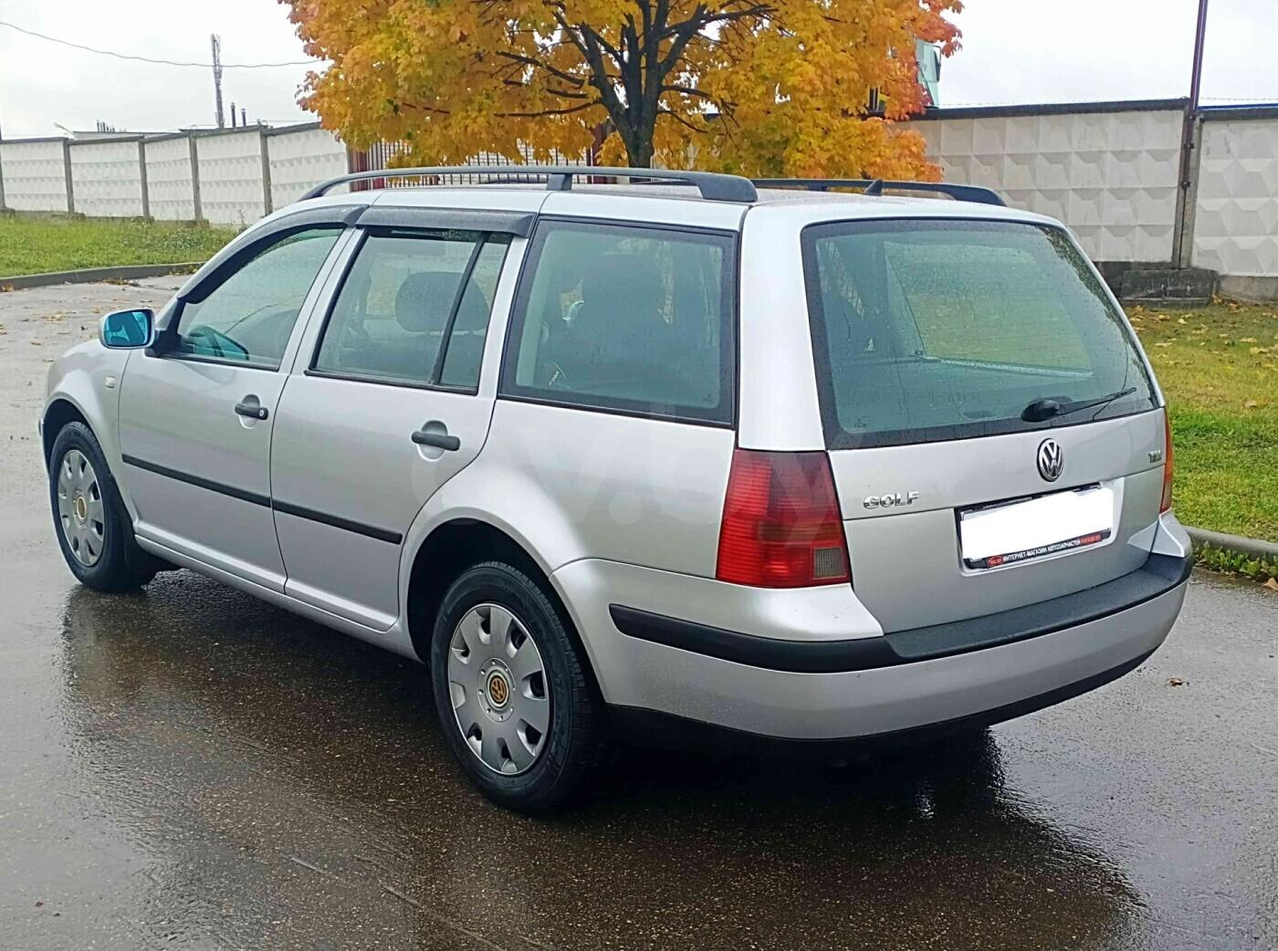Golf_1997-2006: (40, 174, 1195, 790)
